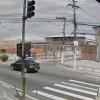traffic lights: (26, 1, 36, 18)
